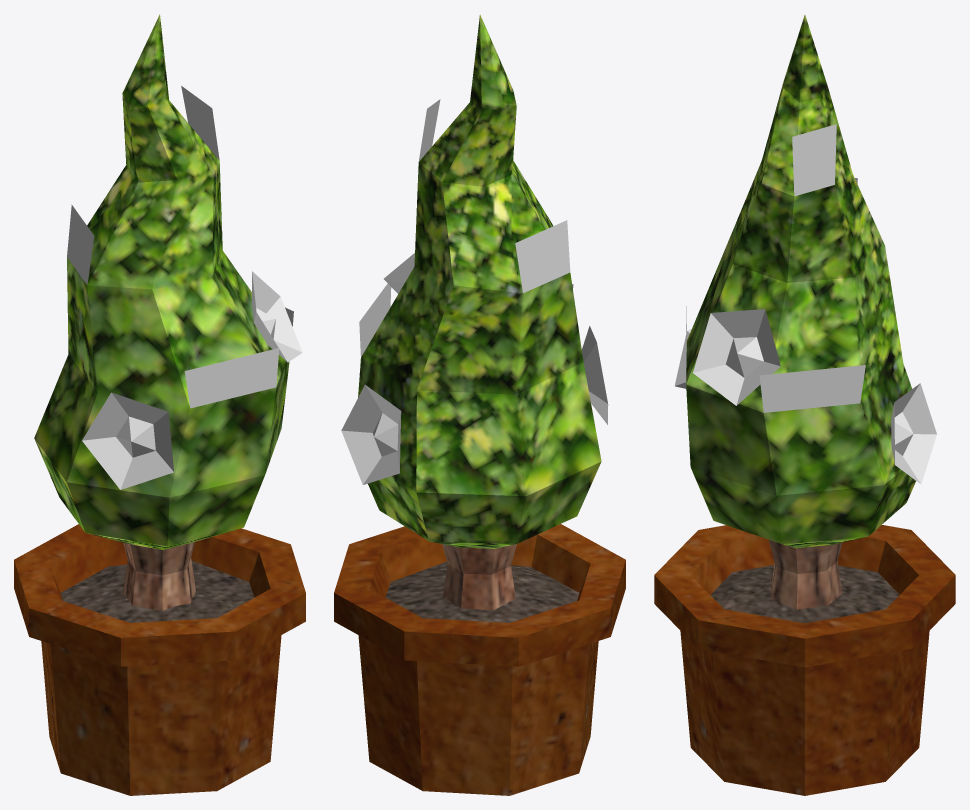
Rendered from plant.fbx.
3 renders of one model, left to right at view 1: azimuth 30°, elevation 25°; view 2: azimuth 150°, elevation 25°; view 3: azimuth 270°, elevation 25°, orthographic.
Parts seen in each view (by area): view 1: растение, цветоки и листья; view 2: растение, цветоки и листья; view 3: растение, цветоки и листья.
Boxes of the visible parts, x1=… form: растение: x1=14, y1=14, x2=305, y2=795; цветоки и листья: x1=67, y1=86, x2=302, y2=489; растение: x1=334, y1=14, x2=625, y2=795; цветоки и листья: x1=341, y1=99, x2=608, y2=484; растение: x1=654, y1=15, x2=955, y2=795; цветоки и листья: x1=674, y1=124, x2=936, y2=484.
Bounding box in the file's own units: 15.2 × 40.8 × 15.2.
